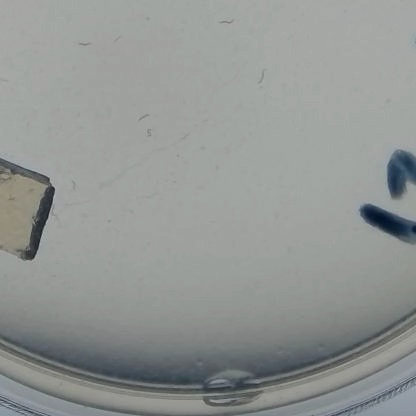worm: (253, 67, 270, 89), (133, 108, 155, 122), (69, 174, 81, 196), (139, 127, 160, 139), (179, 129, 193, 143), (217, 17, 235, 27), (75, 39, 91, 50), (111, 32, 122, 47), (0, 73, 13, 82)
